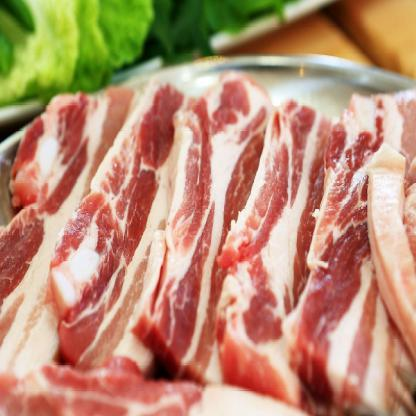pork: (26, 89, 416, 415)
